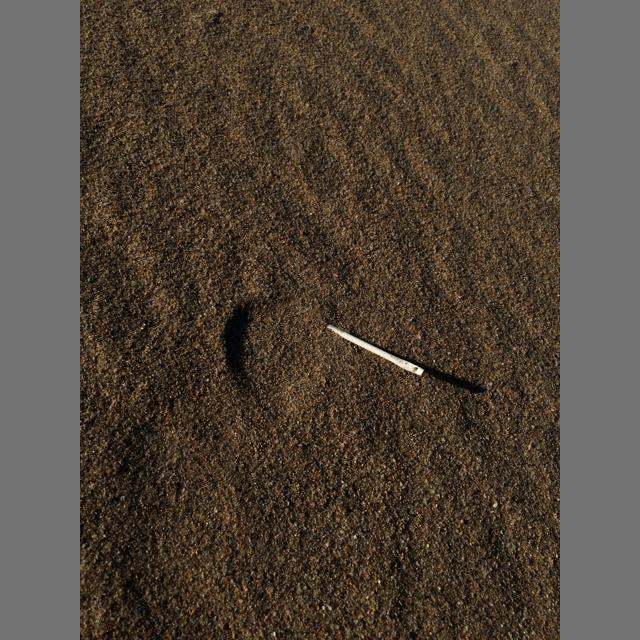litter: (327, 324, 424, 376)
